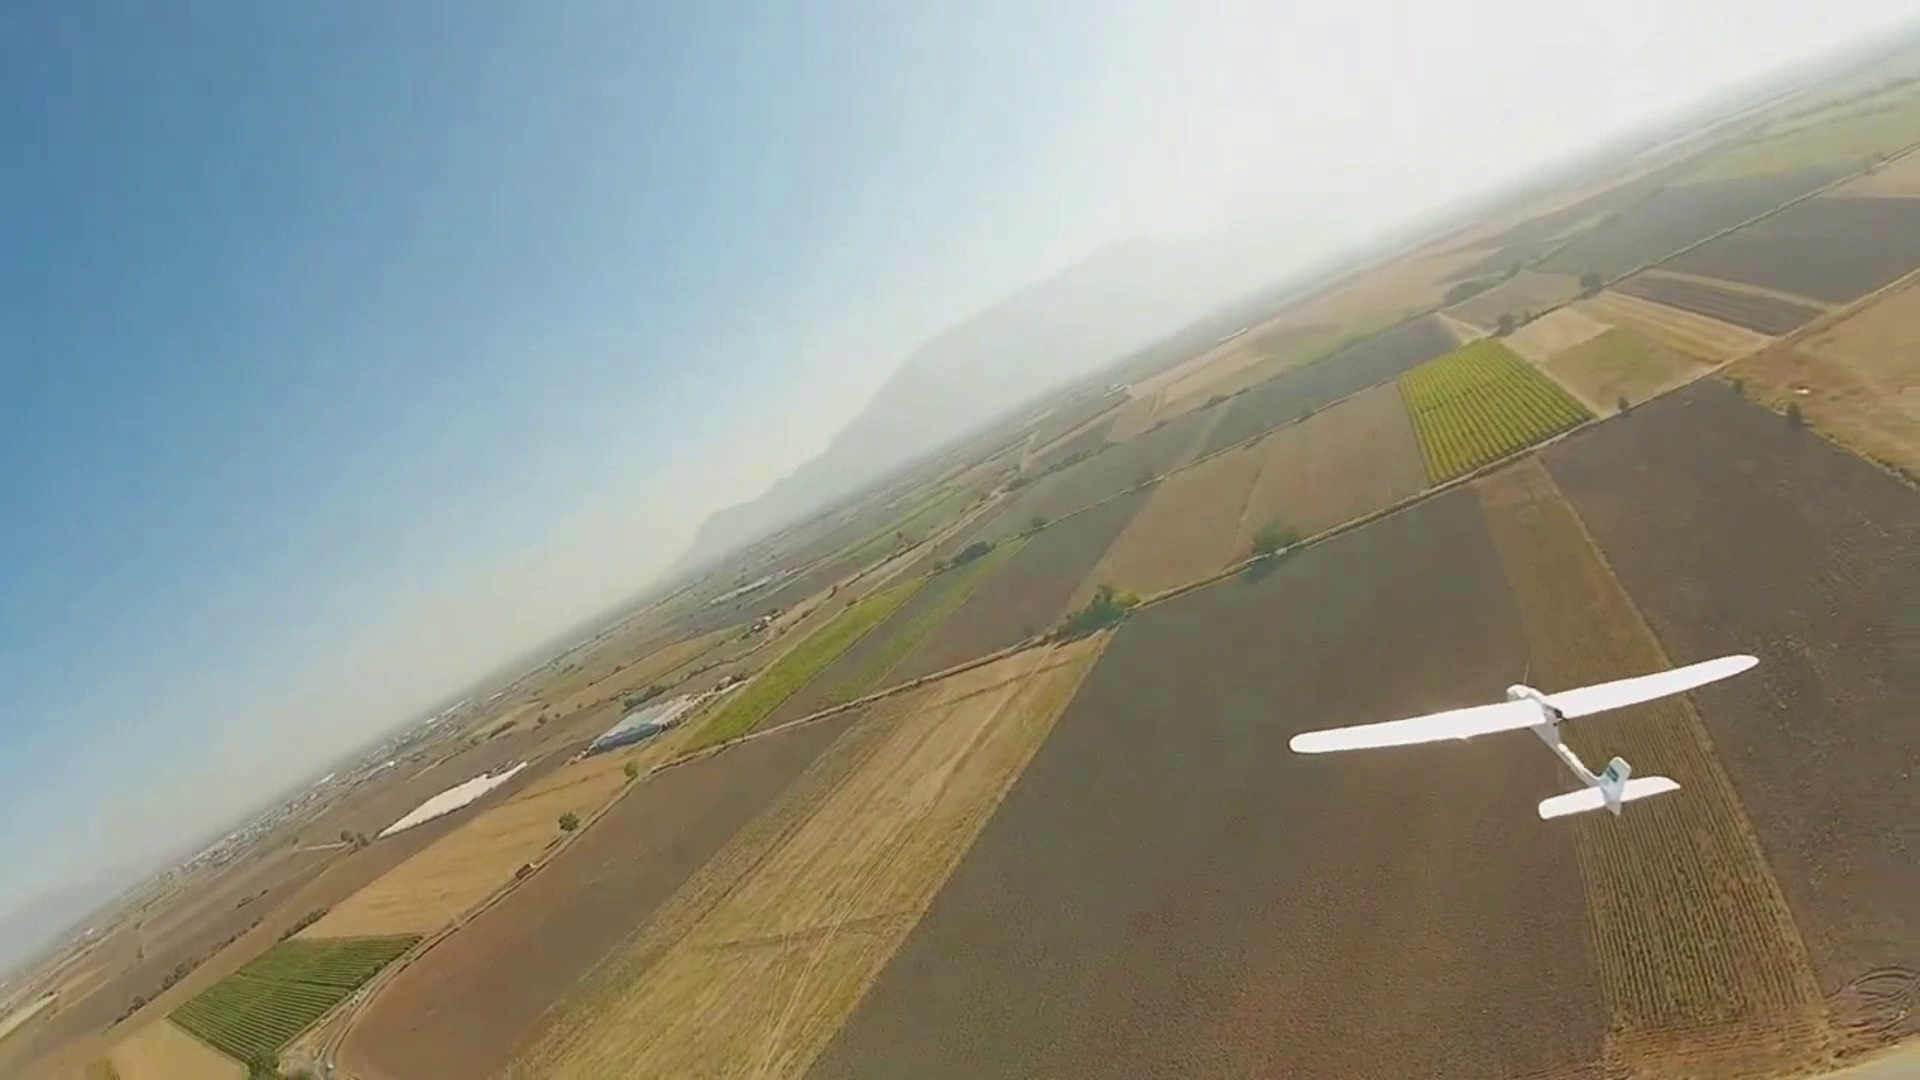airplane: (1287, 658, 1756, 823)
